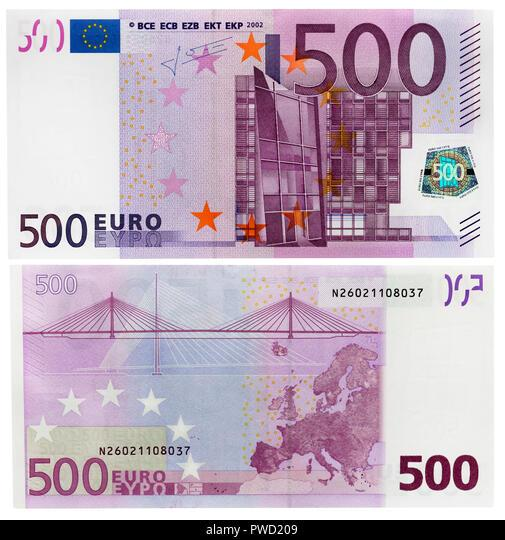euro_banknote: (6, 12, 495, 260), (13, 264, 496, 510)
